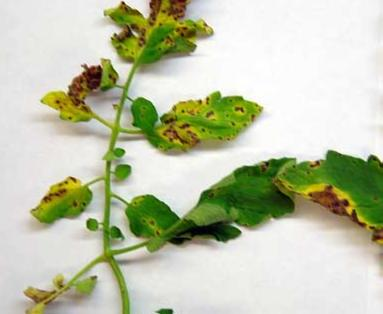Tomato Septoria leaf spot: (276, 137, 383, 269), (148, 84, 269, 153), (106, 0, 221, 60), (23, 175, 94, 241), (128, 190, 188, 255), (36, 85, 95, 128)
